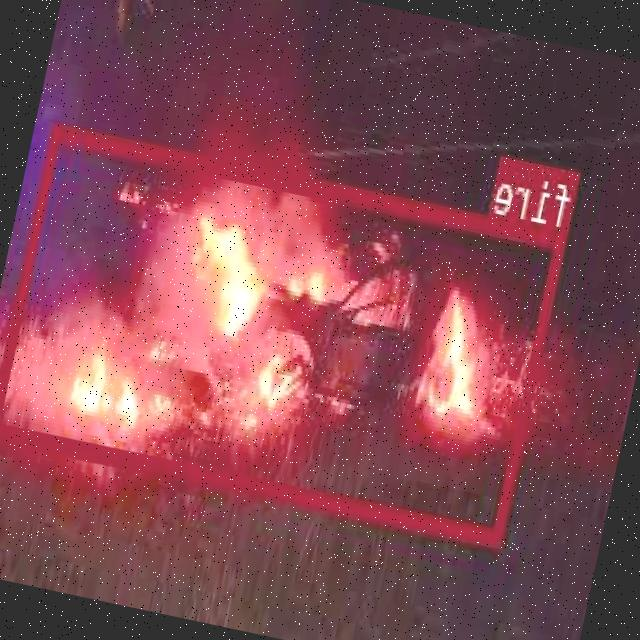fire: (0, 121, 569, 542)
